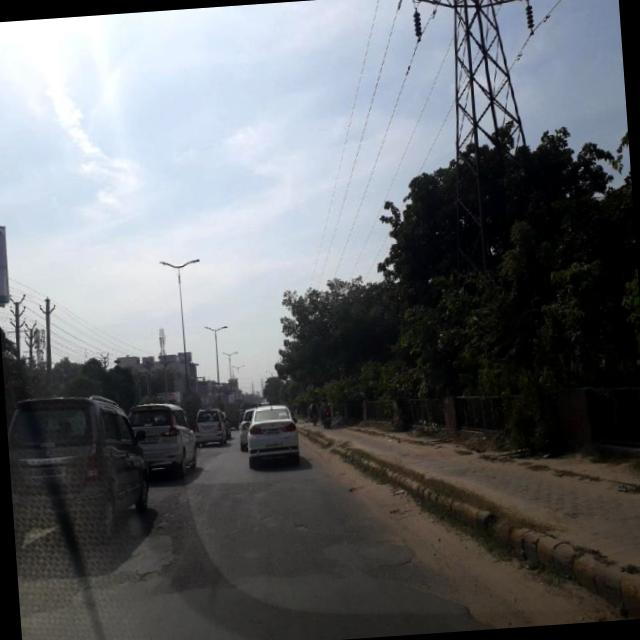pothole: (366, 548, 468, 607), (138, 560, 170, 588), (287, 509, 318, 536)
